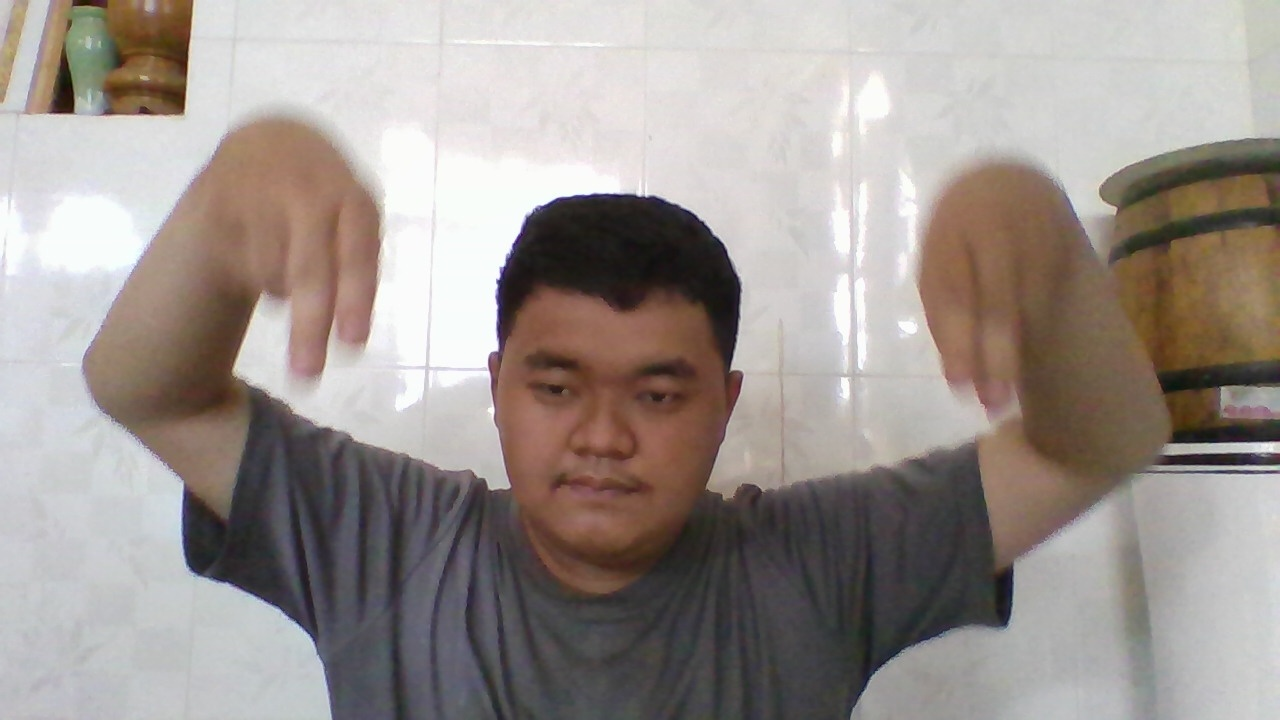N: (916, 146, 1094, 426), (212, 112, 376, 386)
